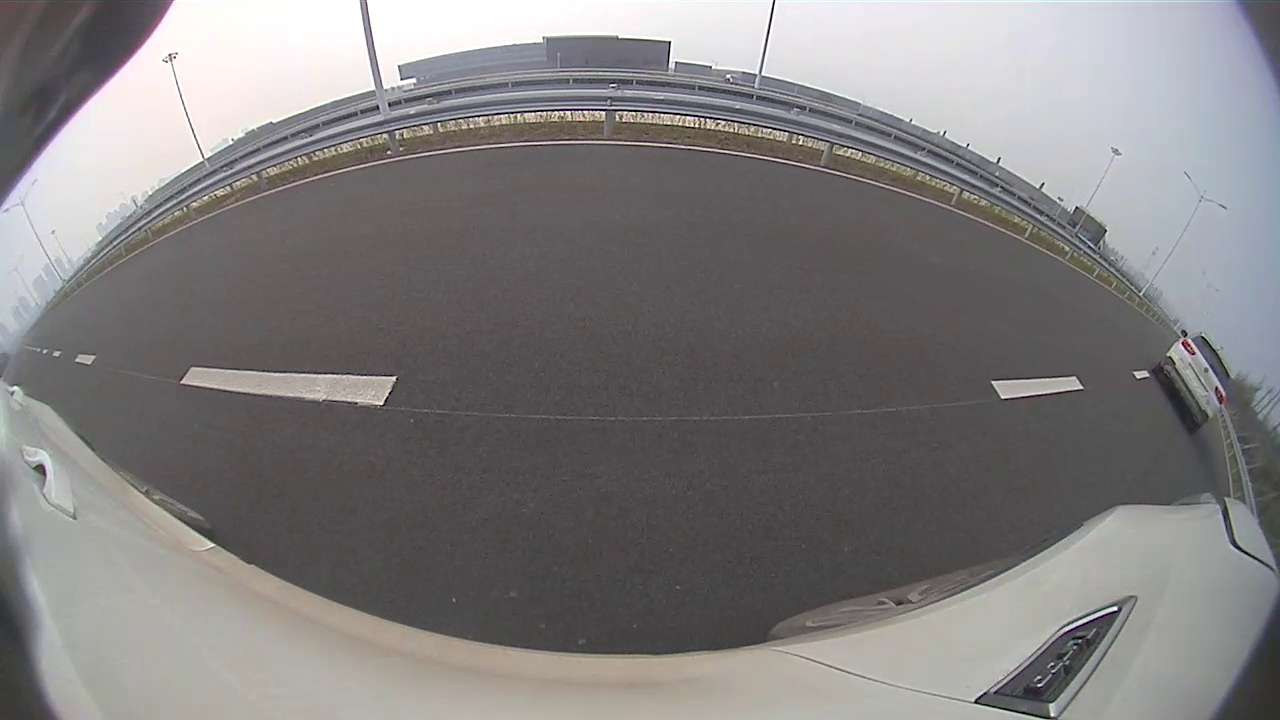car: (1153, 332, 1231, 432)
